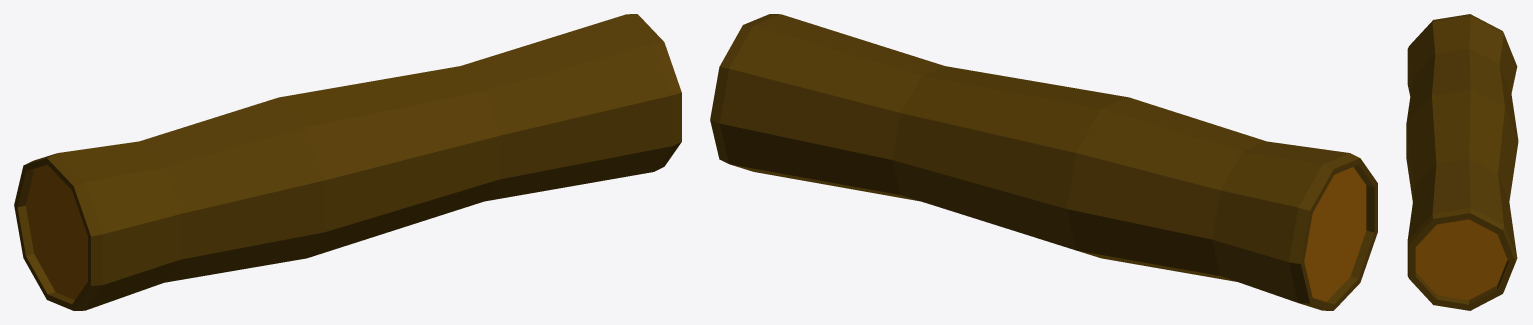
The model's file is log01.fbx.
3 views of the same model, side by side, from view 1: azimuth 30°, elevation 25°; view 2: azimuth 150°, elevation 25°; view 3: azimuth 270°, elevation 25° (orthographic). The views are drawn at different scales.
Parts seen in each view (by area): view 1: Cylinder.001, Cylinder.002; view 2: Cylinder.001, Cylinder.002; view 3: Cylinder.001, Cylinder.002.
Part boxes in pixels (x1,y1,x2,y2): Cylinder.001: [14, 14, 681, 310]; Cylinder.002: [25, 165, 87, 299]; Cylinder.001: [710, 14, 1377, 310]; Cylinder.002: [1304, 167, 1366, 301]; Cylinder.001: [1406, 14, 1518, 310]; Cylinder.002: [1415, 219, 1507, 299].
Size of the model in its own units: 824 by 199 by 196.
